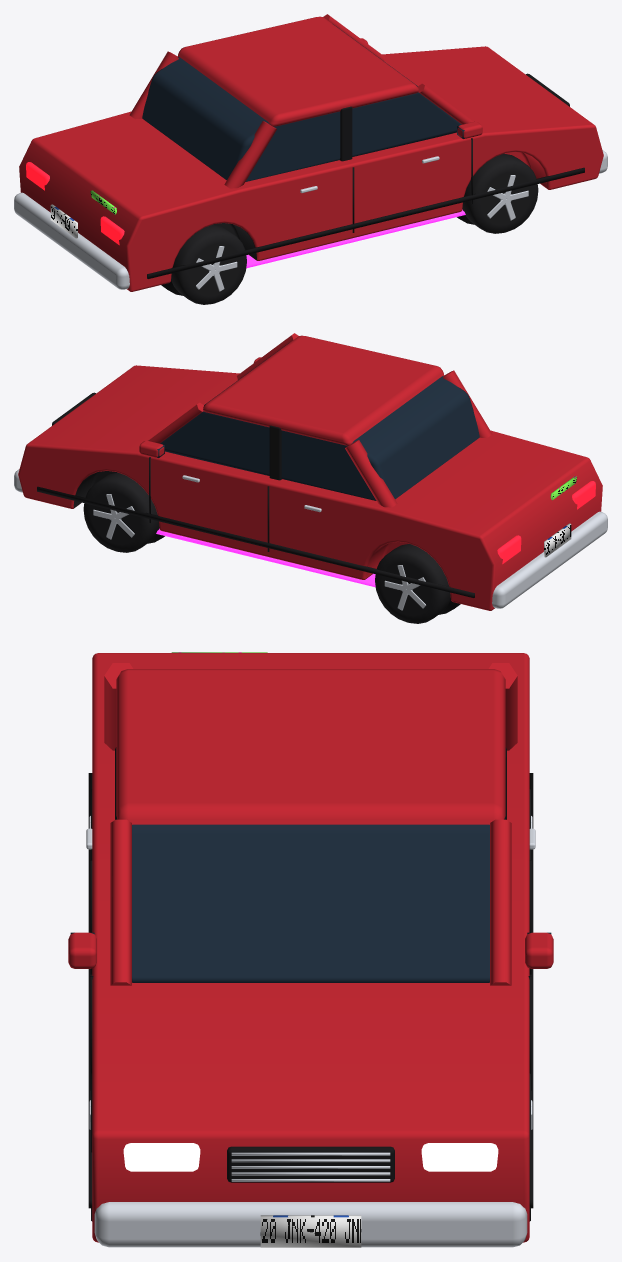
File: p_car.glb
3 views of the same model, one above another, from view 1: azimuth 30°, elevation 25°; view 2: azimuth 150°, elevation 25°; view 3: azimuth 270°, elevation 25° (orthographic). The views are drawn at different scales.
Parts seen in each view (by area): view 1: car; view 2: car; view 3: car.
Part boxes in pixels (x1,y1,x2,y2): car: [14, 14, 607, 304]; car: [14, 333, 607, 623]; car: [68, 652, 553, 1247].
Bounding box in the file's own units: 4.76 × 1.57 × 2.02.
Materials: 11 (2 with a texture image).
